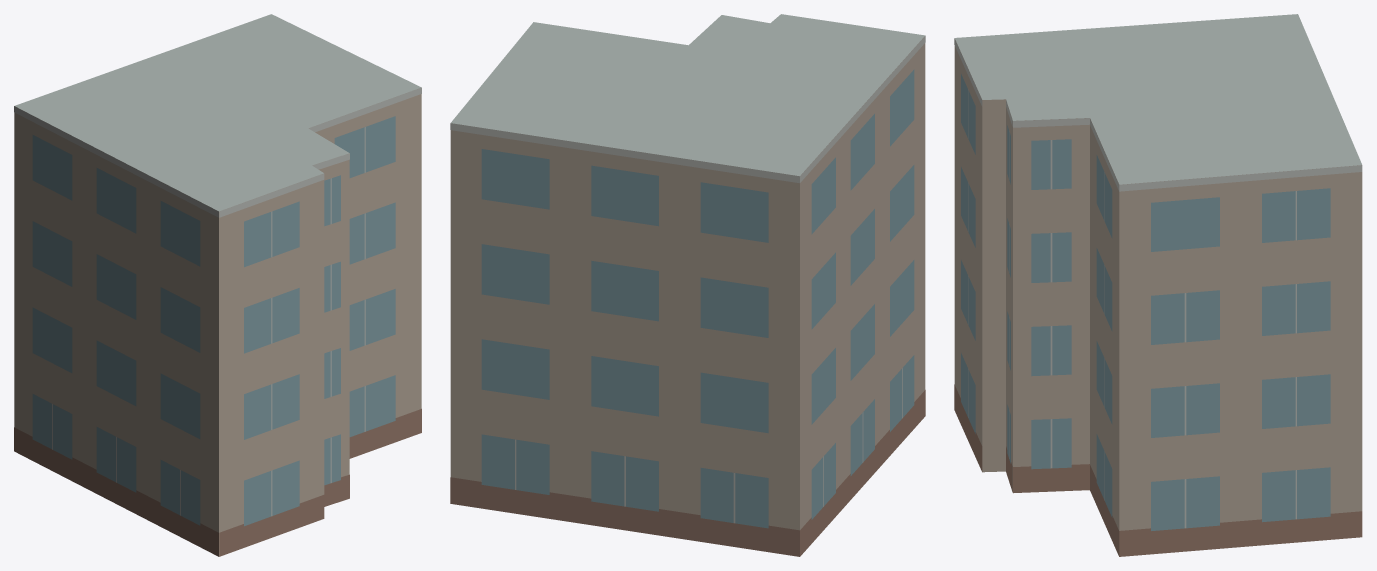
The model's file is survey-upis-32460512.glb.
3 renders of one model, left to right at view 1: azimuth 30°, elevation 25°; view 2: azimuth 150°, elevation 25°; view 3: azimuth 270°, elevation 25°, orthographic. The views are drawn at different scales.
Visible parts, largest first — view 1: survey-upis-32460512.tmp; view 2: survey-upis-32460512.tmp; view 3: survey-upis-32460512.tmp.
Part boxes in pixels (x1=…): survey-upis-32460512.tmp: x1=14, y1=14, x2=421, y2=556; survey-upis-32460512.tmp: x1=450, y1=14, x2=925, y2=556; survey-upis-32460512.tmp: x1=954, y1=14, x2=1362, y2=556.
Size of the model in its own units: 13 by 13.2 by 13.12.
